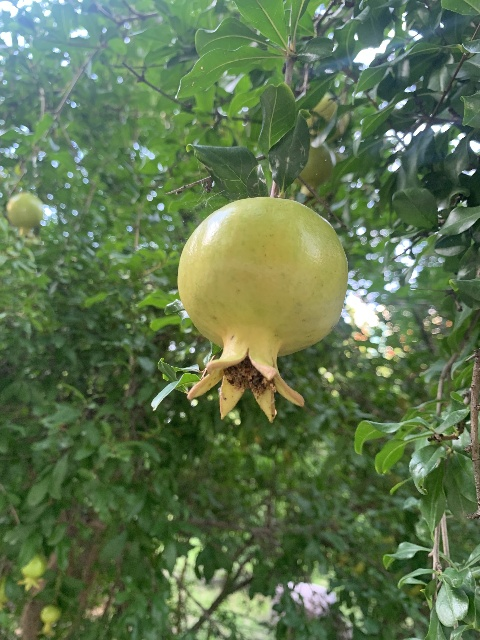mid-growth: (176, 196, 349, 423), (293, 144, 333, 194), (6, 192, 43, 238), (16, 557, 43, 591), (36, 604, 62, 636)
